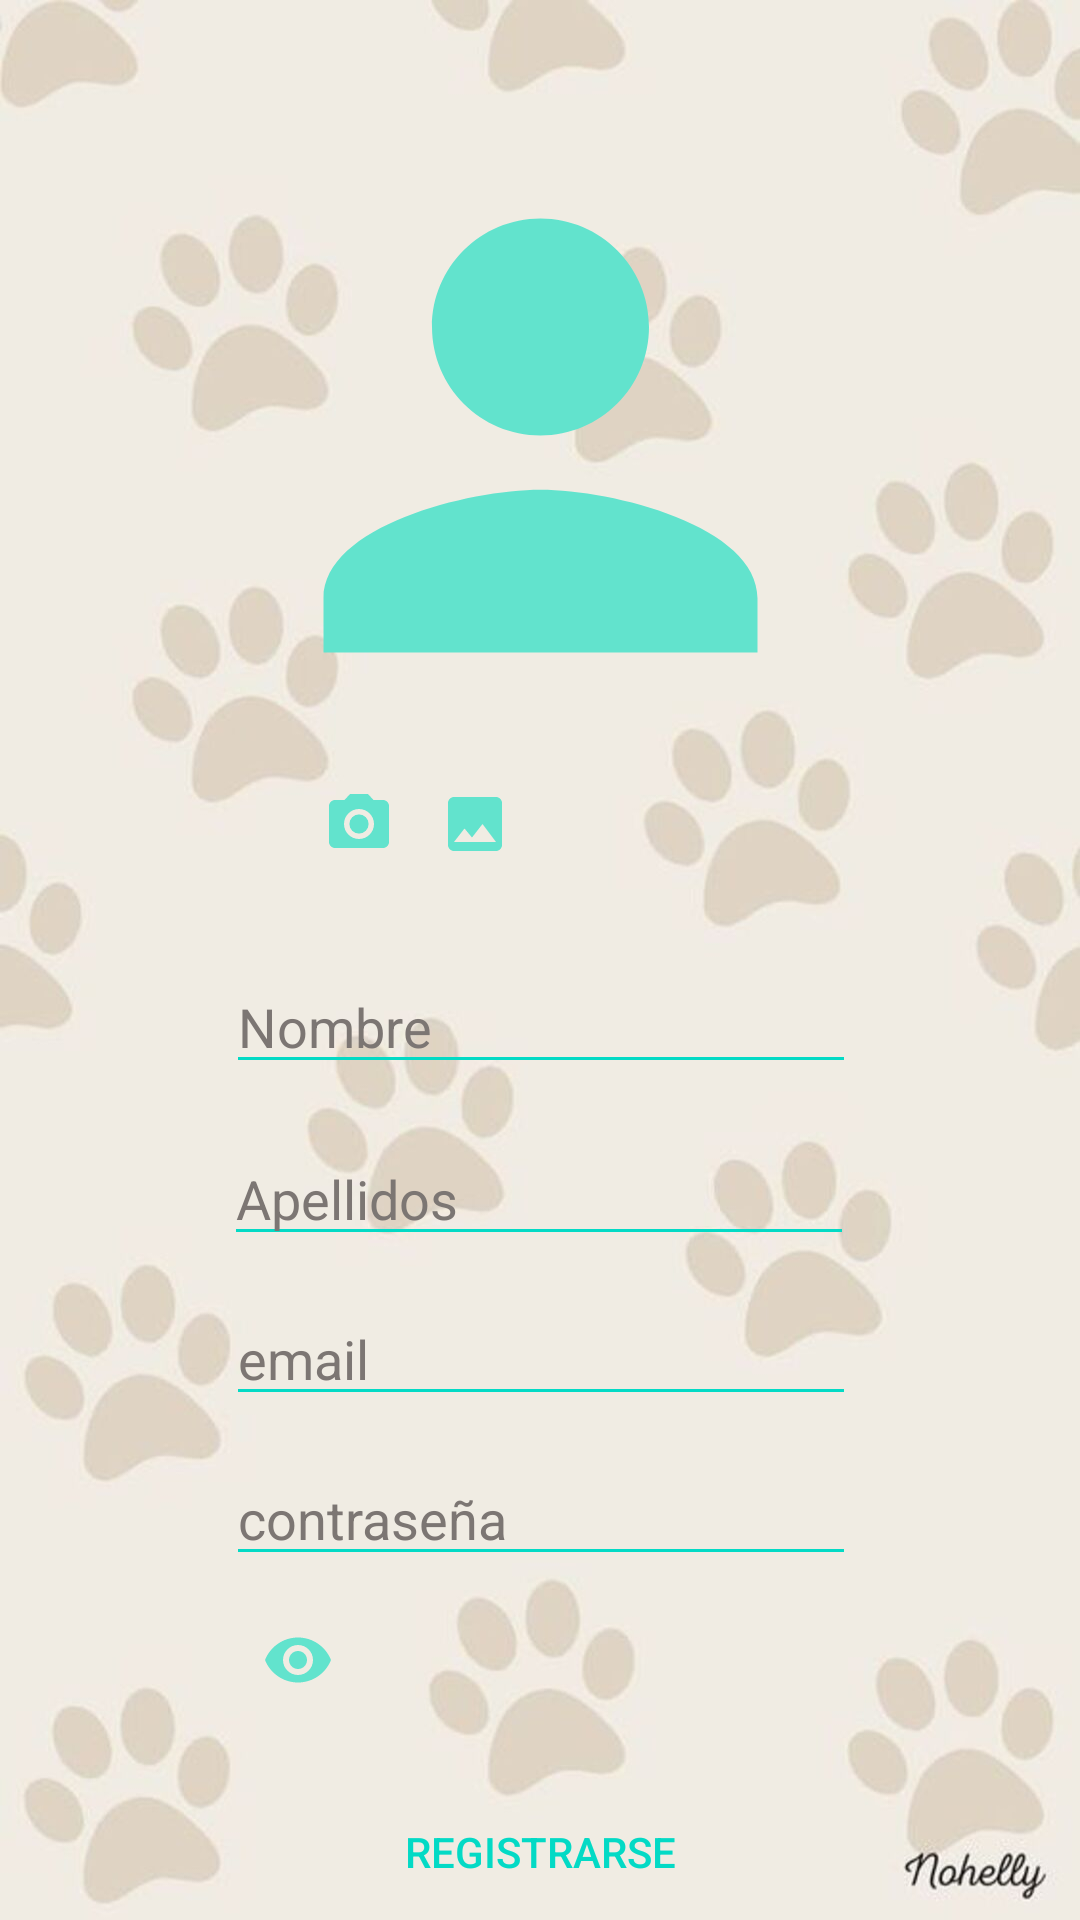

Named icons in this screenshot (1080px×1920px) and their centers, [x,y]:
camara: [359,821]
galeria: [475,824]
ver password: [298,1660]
